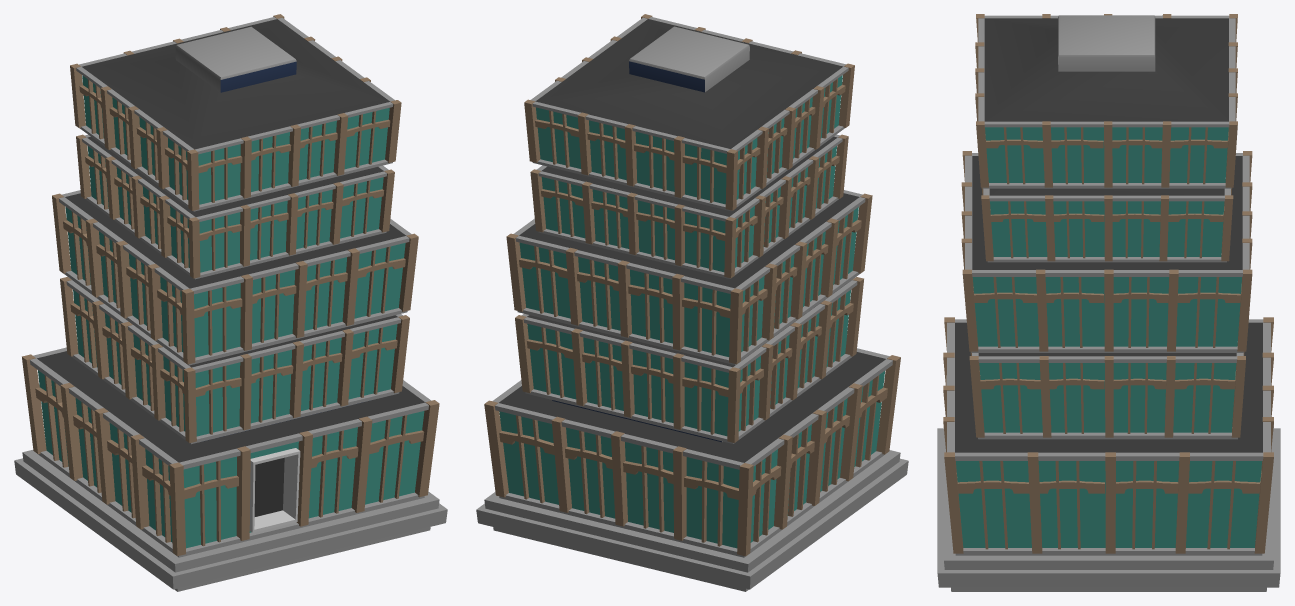
Rendered from Empire  Building medium.FBX.
3 views of the same model, side by side, from view 1: azimuth 30°, elevation 25°; view 2: azimuth 150°, elevation 25°; view 3: azimuth 270°, elevation 25° (orthographic). The views are drawn at different scales.
Parts seen in each view (by area): view 1: Empire Building #1; view 2: Empire Building #1; view 3: Empire Building #1.
Part boxes in pixels (box(x1,y1,x2,y2)): Empire Building #1: box(14, 14, 447, 591); Empire Building #1: box(476, 14, 908, 591); Empire Building #1: box(937, 14, 1280, 591).
Bounding box in the file's own units: 22.26 × 35.31 × 22.26.
